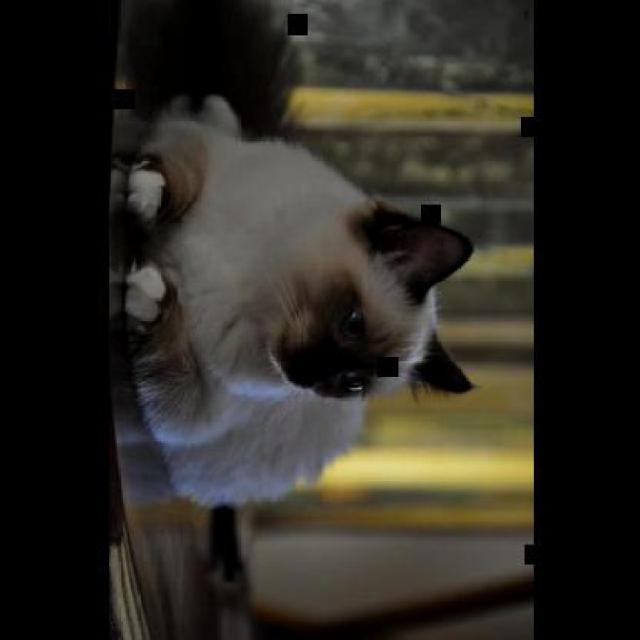unauthorized: (110, 0, 476, 511)
